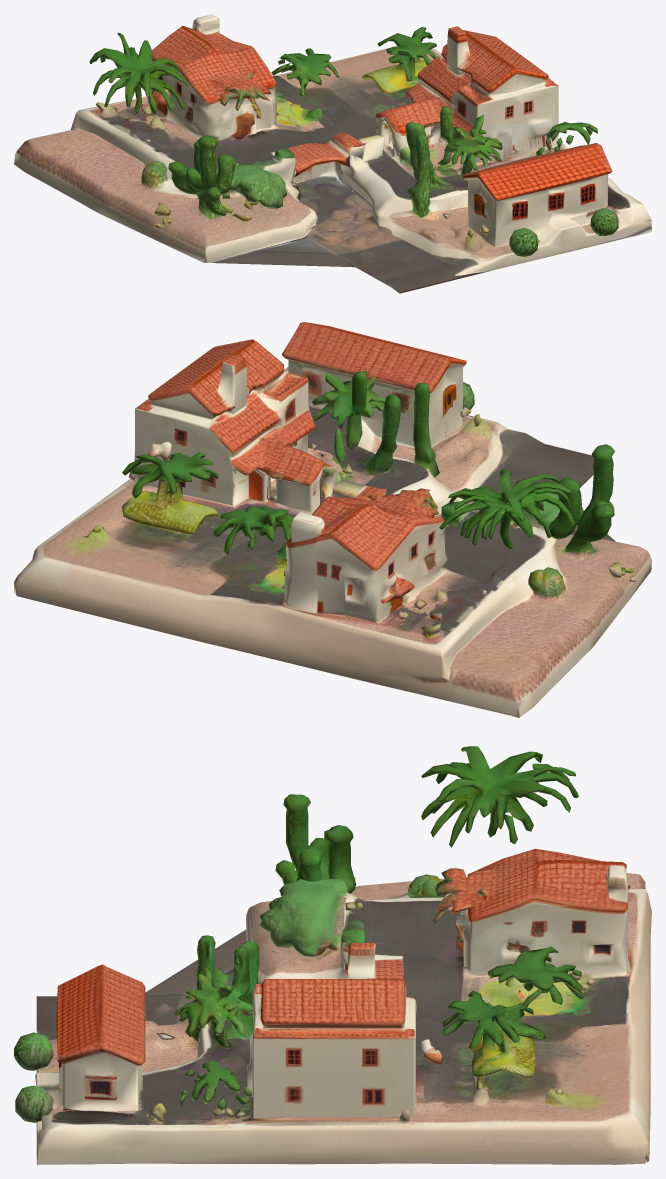
File: sonoran_neighborhood_bridge_diorama.glb
3 views of the same model, one above another, from view 1: azimuth 30°, elevation 25°; view 2: azimuth 150°, elevation 25°; view 3: azimuth 270°, elevation 25° (orthographic). The views are drawn at different scales.
Size of the model in its own units: 1.91 by 0.5871 by 1.88.
Materials: 1 (1 with a texture image).
